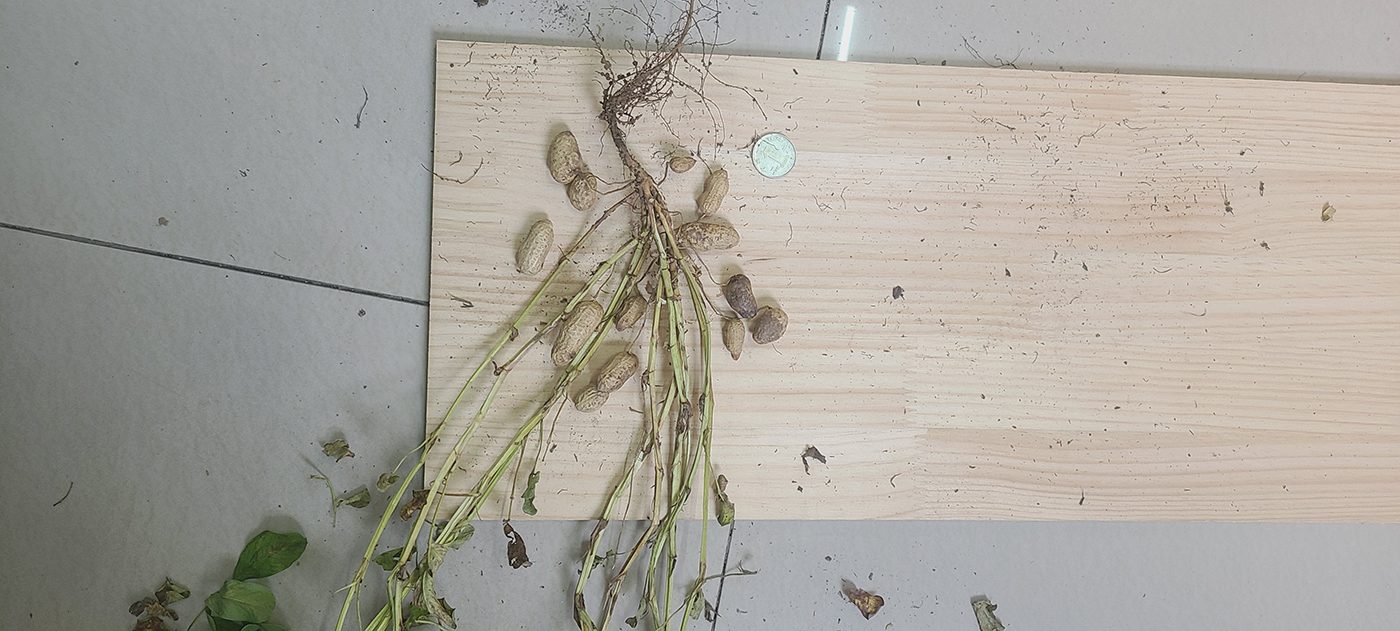h: (573, 351, 641, 413), (550, 299, 604, 366), (515, 220, 556, 275), (673, 222, 741, 251), (547, 130, 583, 183), (695, 168, 730, 216), (613, 296, 647, 332), (569, 173, 598, 211), (721, 318, 745, 361)
l: (725, 275, 759, 320), (753, 308, 789, 346)
